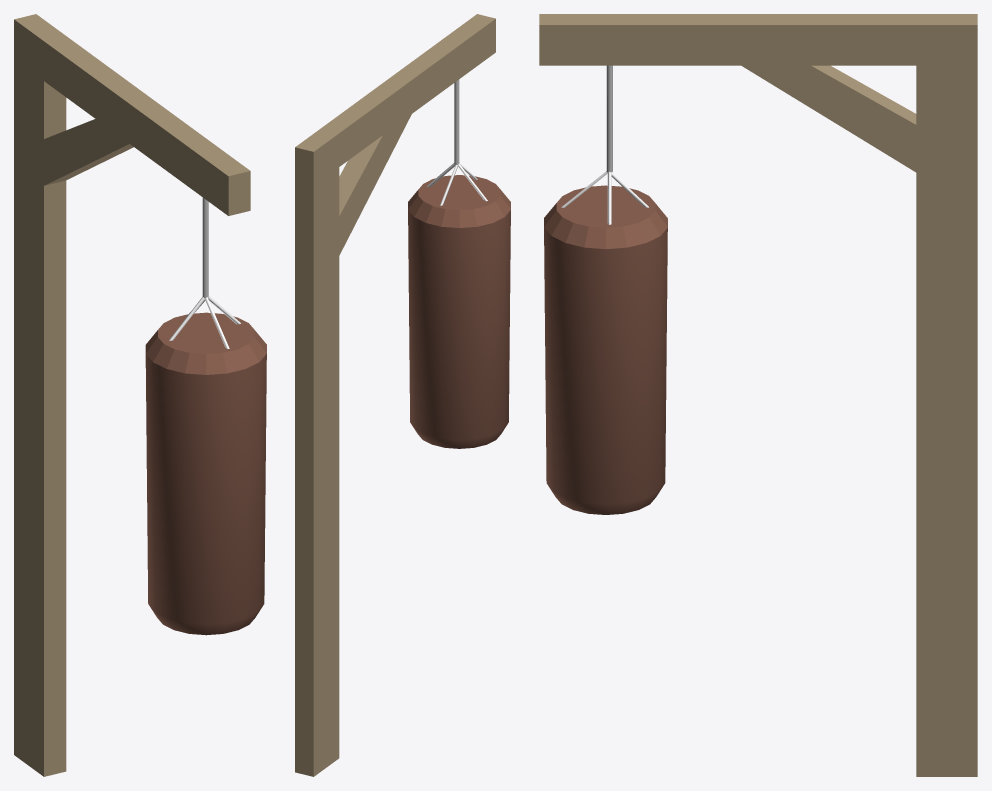
The model's file is SM_Pear_01.fbx.
The picture shows the model from 3 angles, left to right: view 1: azimuth 30°, elevation 25°; view 2: azimuth 150°, elevation 25°; view 3: azimuth 270°, elevation 25°; orthographic projection. The views are drawn at different scales.
Visible parts, largest first — view 1: SM_Pear_01; view 2: SM_Pear_01; view 3: SM_Pear_01.
Boxes of the visible parts, x1,y1,x2,y2 form: SM_Pear_01: (14,14,266,776); SM_Pear_01: (295,14,510,776); SM_Pear_01: (539,14,977,776).
Bounding box in the file's own units: 44.81 × 296 × 156.
1 material, 1 textured.
